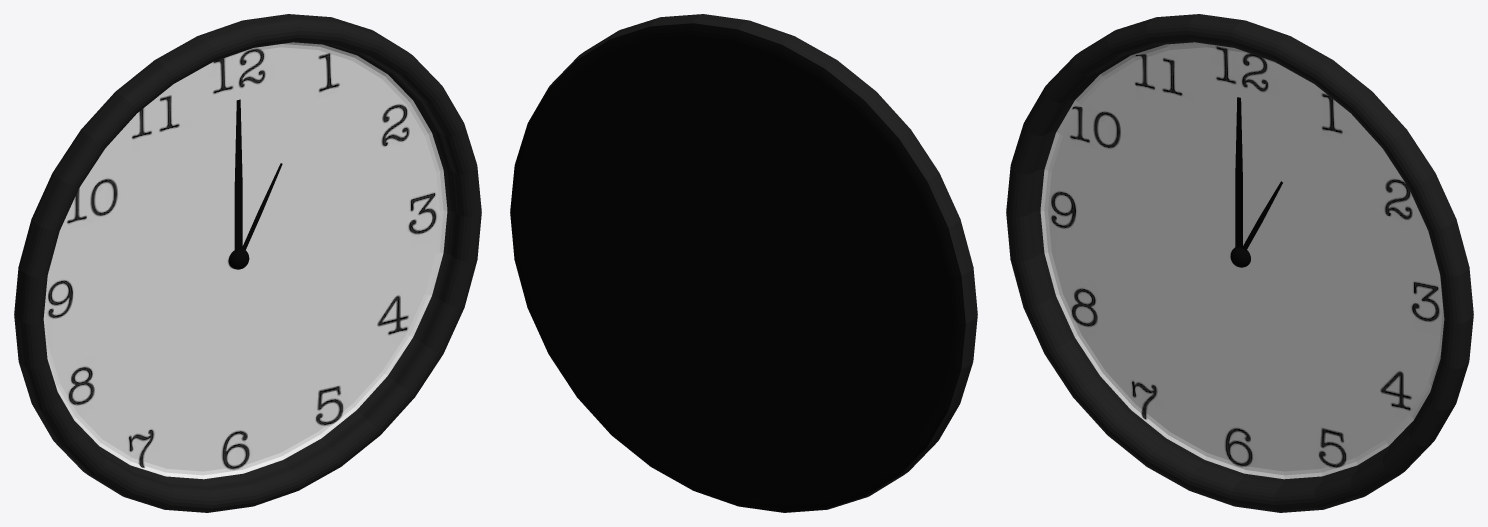
File: zegar.fbx
3 views of the same model, side by side, from view 1: azimuth 30°, elevation 25°; view 2: azimuth 150°, elevation 25°; view 3: azimuth 330°, elevation 25° (orthographic).
Parts seen in each view (by area): view 1: Cylinder; view 2: Cylinder; view 3: Cylinder.
Part boxes in pixels (x1=…): Cylinder: x1=14, y1=14, x2=481, y2=512; Cylinder: x1=510, y1=14, x2=977, y2=512; Cylinder: x1=1006, y1=14, x2=1473, y2=512.
Size of the model in its own units: 200 by 200 by 12.94.
Materials: 4 (1 with a texture image).
